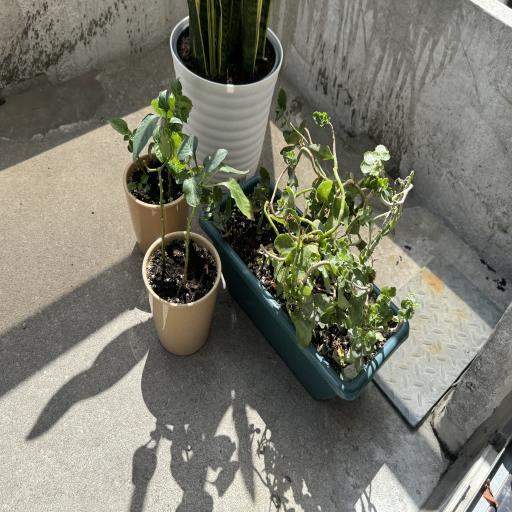Plant Pot: (170, 11, 282, 179), (140, 230, 222, 352), (126, 153, 192, 247)
